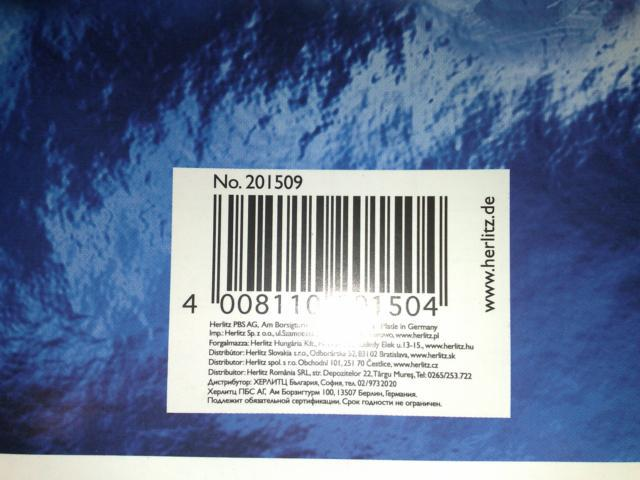Barkod: (212, 194, 450, 294)
